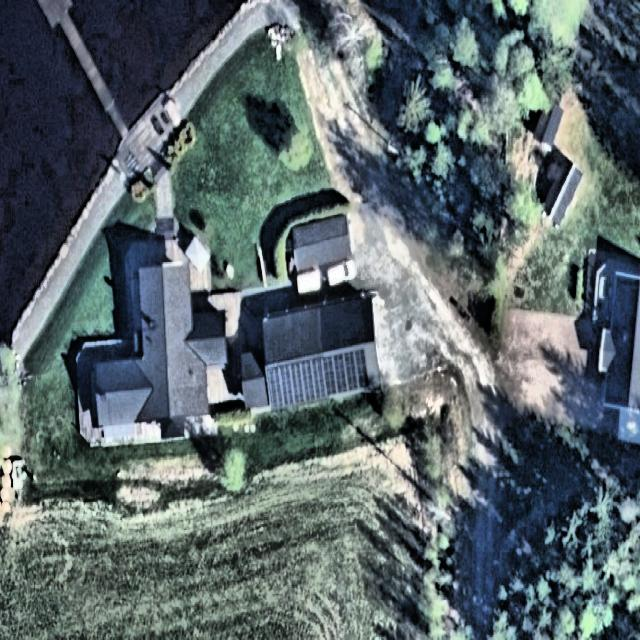roof_pv: (265, 346, 375, 411)
